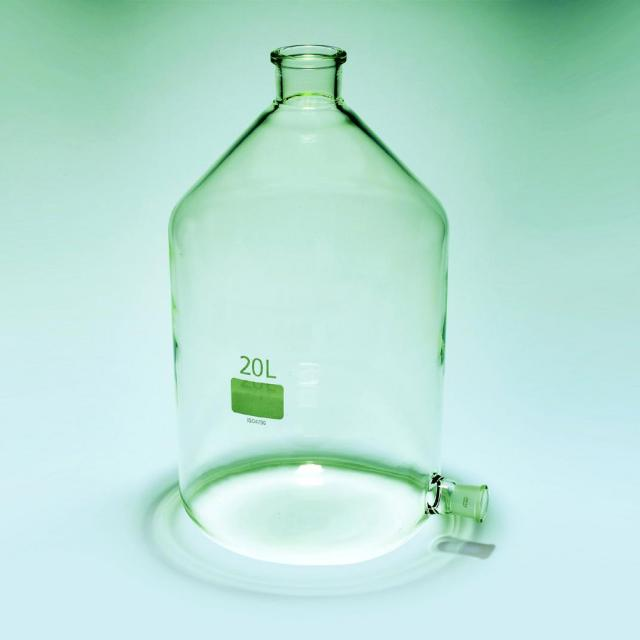non-organic waste: (167, 32, 496, 573)
